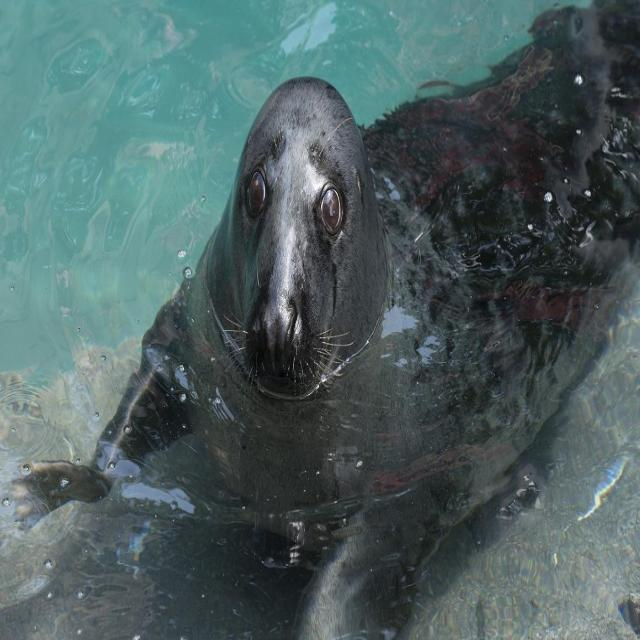WaterDog: (205, 69, 395, 412)
